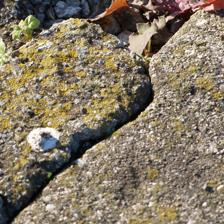Crack: (3, 33, 158, 191)
